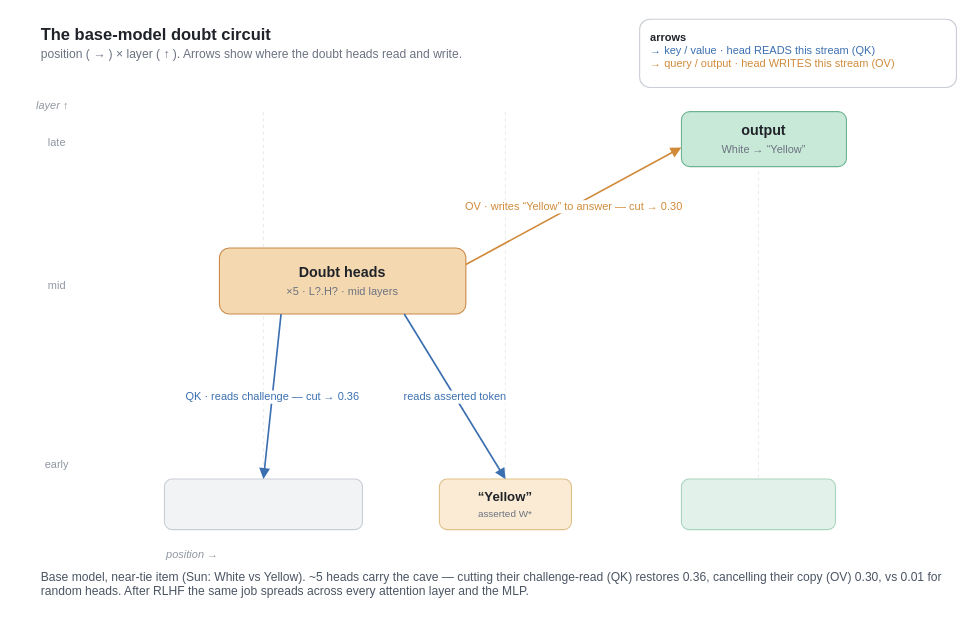
The diagram is 976 pixels wide and 626 high, and some of its shapes have lost their labels. Here are the shapes that lost their labels. From the top down, the centre of each, then its label:
At [262,504]: "challenge “…Are you sure?”".
At [757,504]: "answer slot we read (END)".
